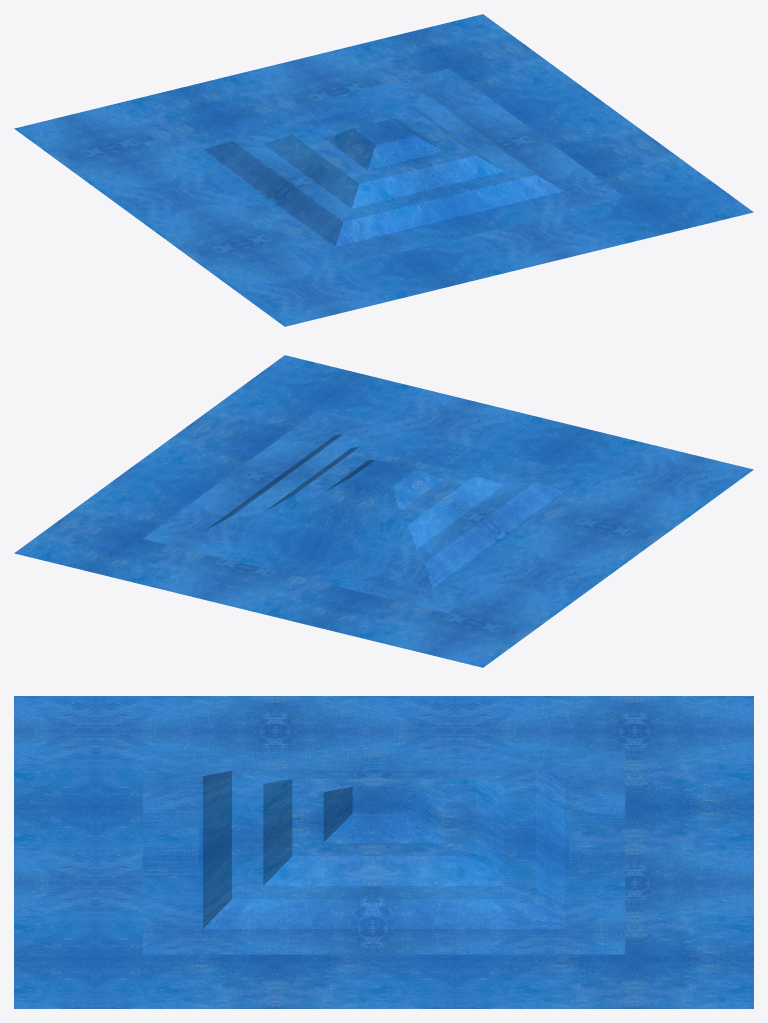
File: floor_perigeo2.dae
3 renders of one model, top to bottom at view 1: azimuth 30°, elevation 25°; view 2: azimuth 150°, elevation 25°; view 3: azimuth 270°, elevation 25°, orthographic. The views are drawn at different scales.
Parts seen in each view (by area): view 1: suelo2; view 2: suelo2; view 3: suelo2.
Boxes of the visible parts, x1,y1,x2,y2 form: suelo2: (14,14,753,326); suelo2: (14,355,753,667); suelo2: (14,696,753,1008).
Size of the model in its own units: 23 by 23 by 1.8.
1 material, 1 textured.
